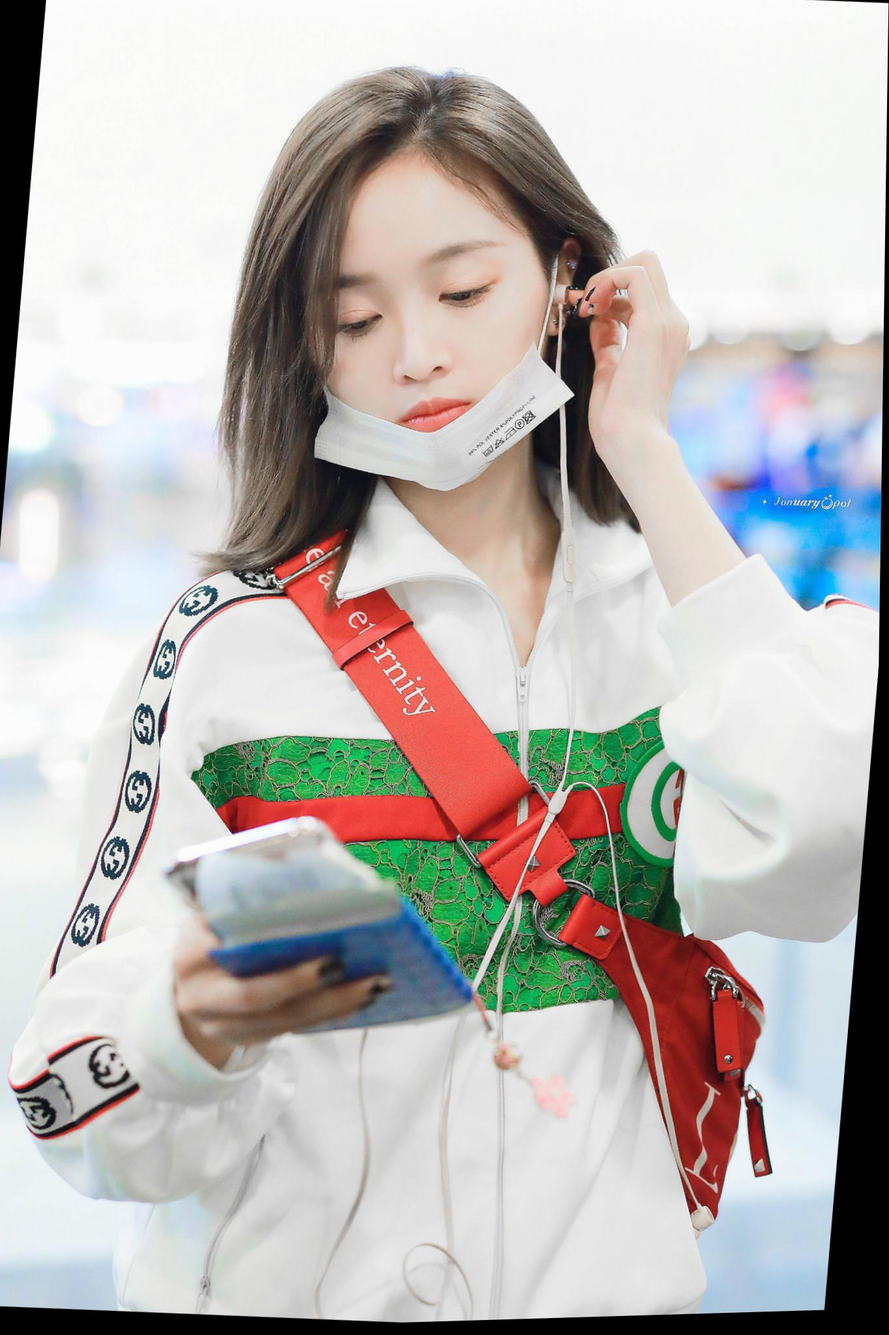WRONG: (288, 193, 561, 499)
